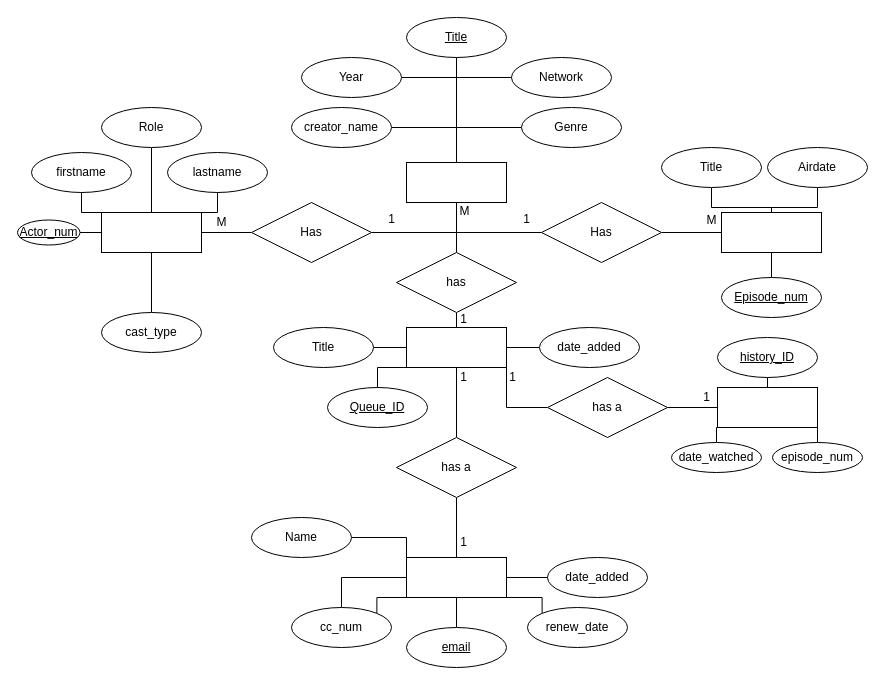
The diagram is 885 pixels wide and 686 high, and some of its shapes have lost their labels. The centre of each missing label's shape, as x and y in pixels:
"Actor" belongs at (x=151, y=232).
"Customer" belongs at (x=456, y=577).
"Episode" belongs at (x=771, y=232).
"Queue" belongs at (x=456, y=347).
"Show" belongs at (x=456, y=182).
"Watch_history" belongs at (x=767, y=407).
